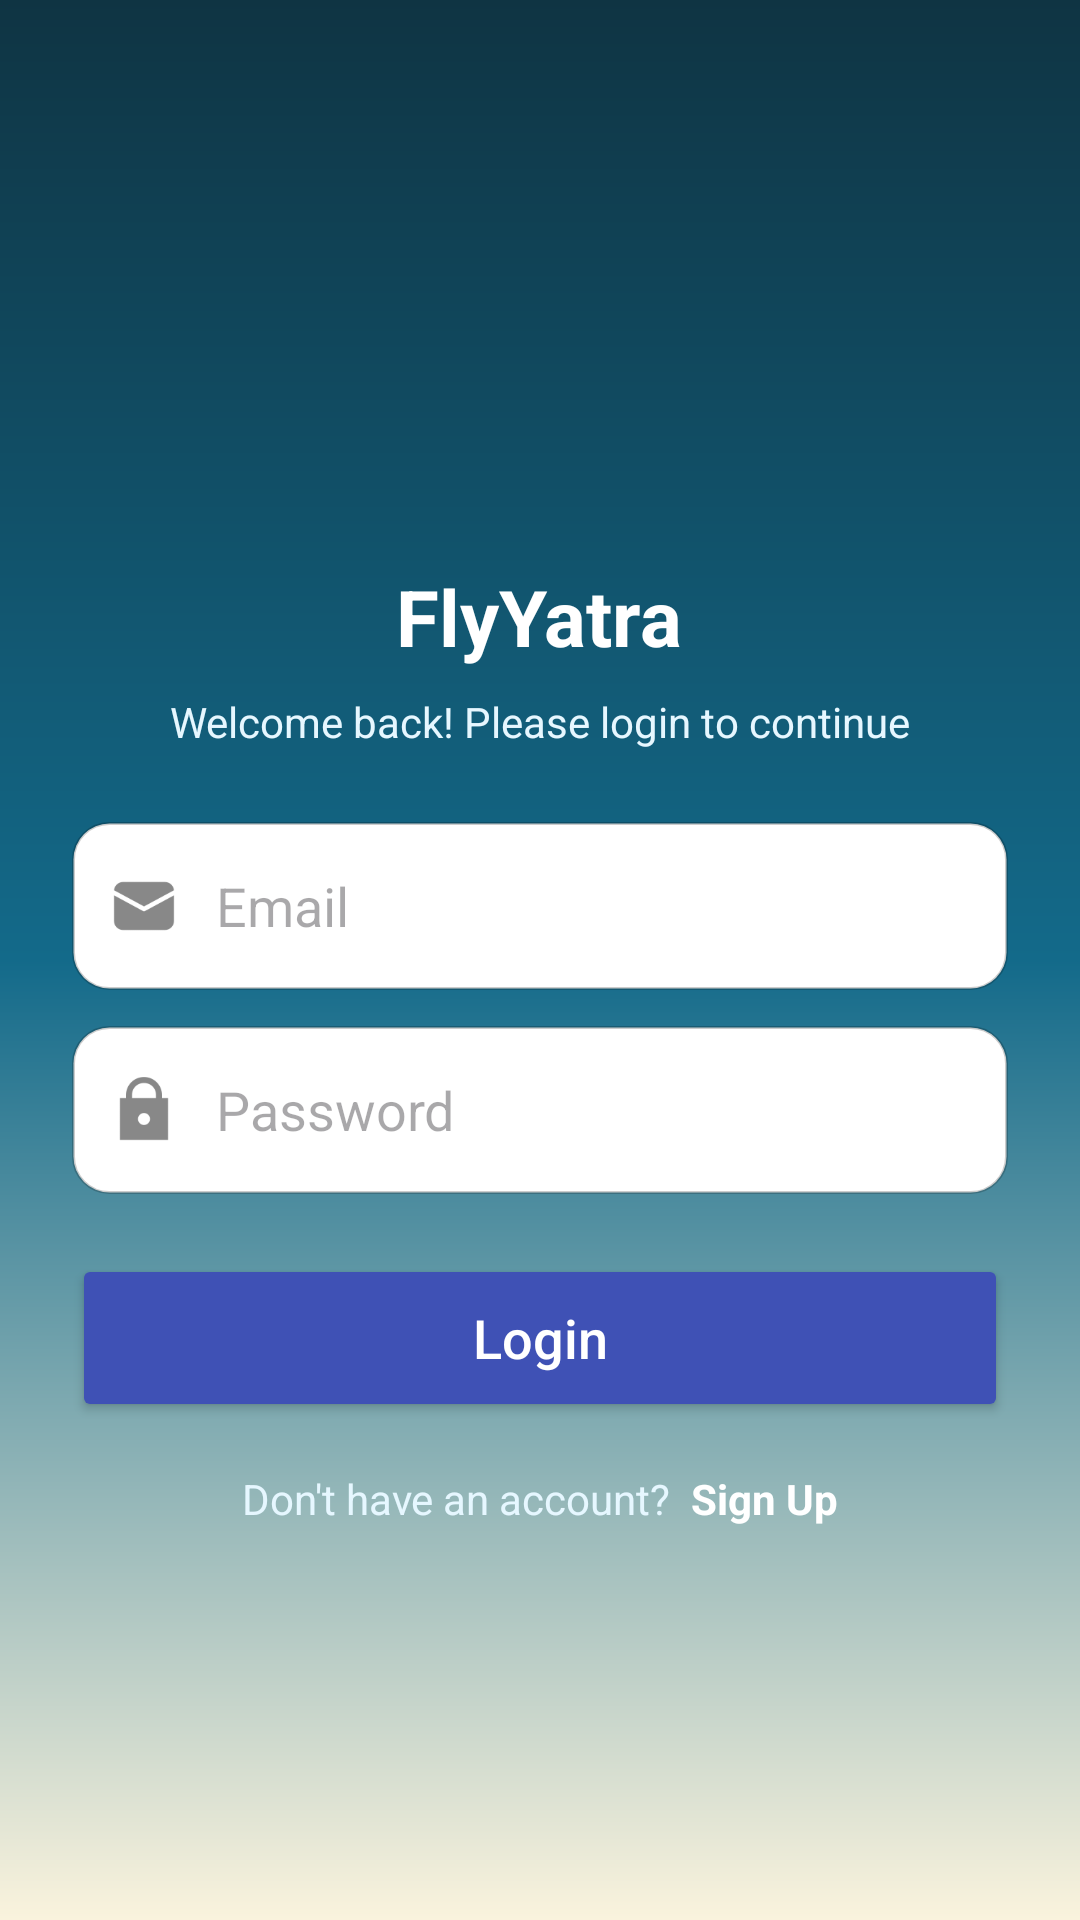

Icon click points for this 1080×1920 phone screenshot, format [x,y]:
lock: [144,1108]
